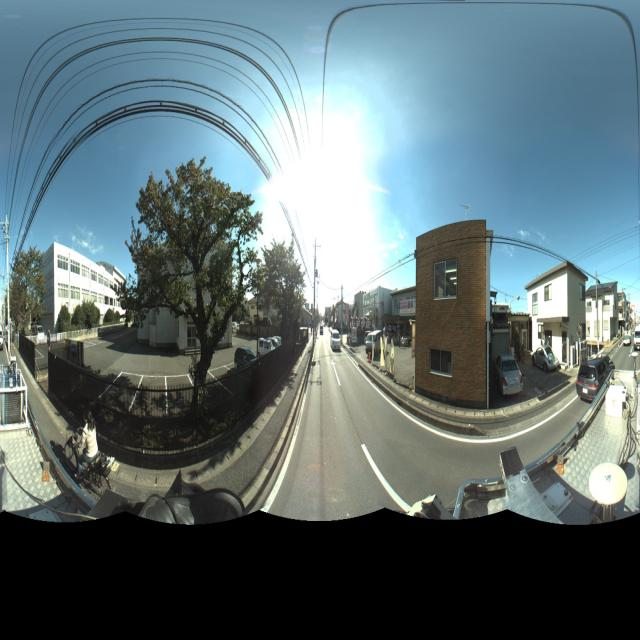b_1: (416, 214, 492, 400), (38, 244, 124, 335), (526, 256, 585, 368), (364, 272, 428, 344), (584, 273, 619, 347)
b_2: (136, 217, 252, 427)
